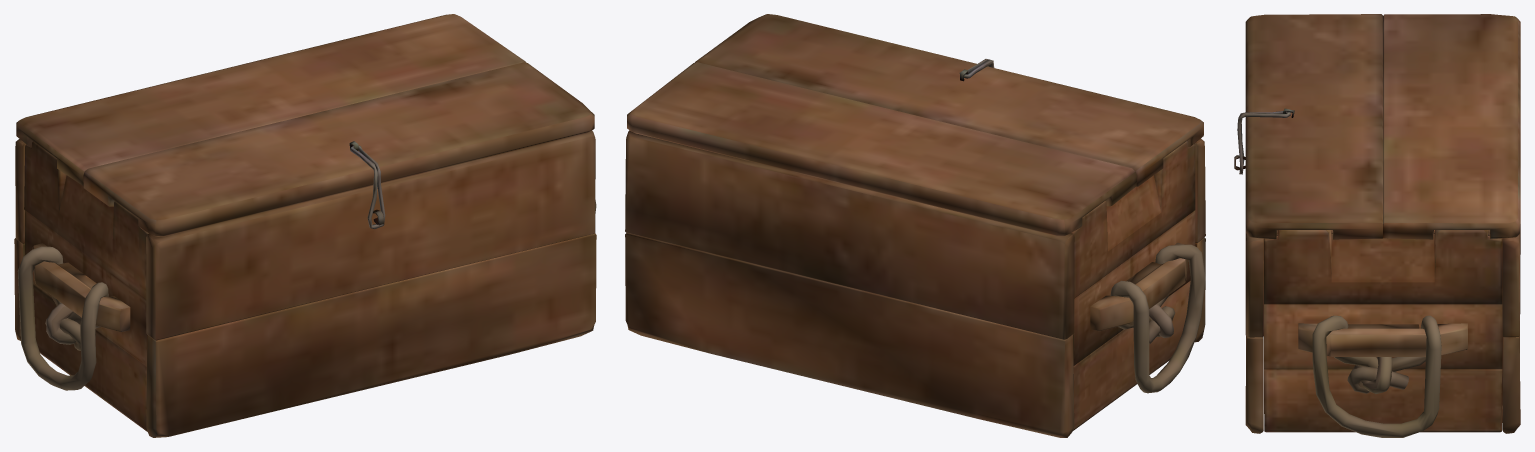
File: wooden_crate_01_lod1.glb
The picture shows the model from 3 angles, left to right: view 1: azimuth 30°, elevation 25°; view 2: azimuth 150°, elevation 25°; view 3: azimuth 270°, elevation 25°; orthographic projection. The views are drawn at different scales.
Parts seen in each view (by area): view 1: wooden_crate_01_lid; view 2: wooden_crate_01_lid; view 3: wooden_crate_01_lid.
Part boxes in pixels (x1,y1,x2,y2): wooden_crate_01_lid: (14, 14, 596, 437); wooden_crate_01_lid: (625, 14, 1205, 437); wooden_crate_01_lid: (1234, 14, 1520, 437).
Bounding box in the file's own units: 0.8245 × 0.3486 × 0.4071.
1 material, 1 textured.
